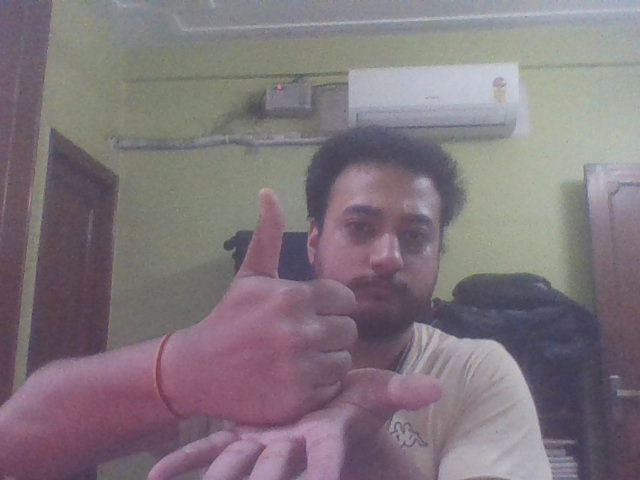Help: (27, 189, 454, 479)
